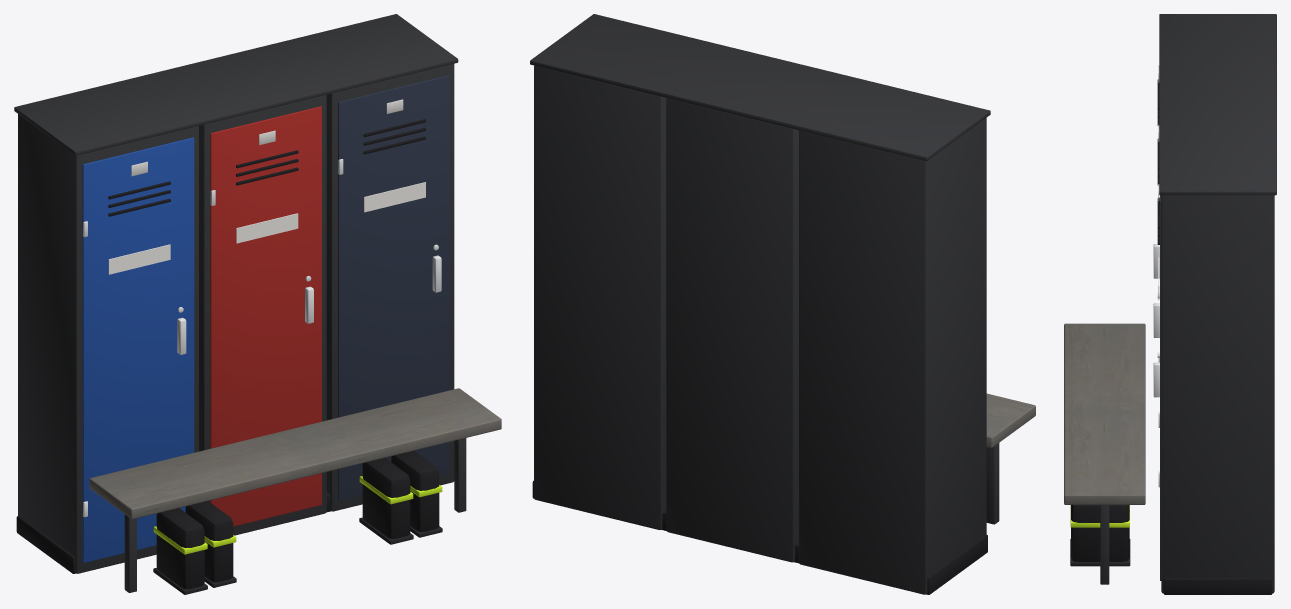
File: armadietti.glb
3 views of the same model, side by side, from view 1: azimuth 30°, elevation 25°; view 2: azimuth 150°, elevation 25°; view 3: azimuth 270°, elevation 25° (orthographic). The views are drawn at different scales.
Parts seen in each view (by area): view 1: armadietti, armadietti_dettagli, armadietti_panca, targa_0, targa_1, targa_2; view 2: armadietti, armadietti_dettagli, armadietti_panca; view 3: armadietti, armadietti_dettagli, armadietti_panca.
Boxes of the visible parts, x1,y1,x2,y2 form: armadietti: [18, 64, 454, 573]; armadietti_dettagli: [14, 14, 458, 594]; armadietti_panca: [89, 388, 501, 592]; targa_0: [108, 244, 170, 274]; targa_1: [236, 213, 298, 243]; targa_2: [364, 182, 425, 212]; armadietti: [534, 65, 986, 594]; armadietti_dettagli: [530, 14, 990, 594]; armadietti_panca: [986, 393, 1035, 524]; armadietti: [1153, 79, 1274, 593]; armadietti_dettagli: [1070, 14, 1276, 594]; armadietti_panca: [1064, 323, 1145, 584].
Size of the model in its own units: 1.86 by 1.97 by 0.94.
Materials: 11 (1 with a texture image).
